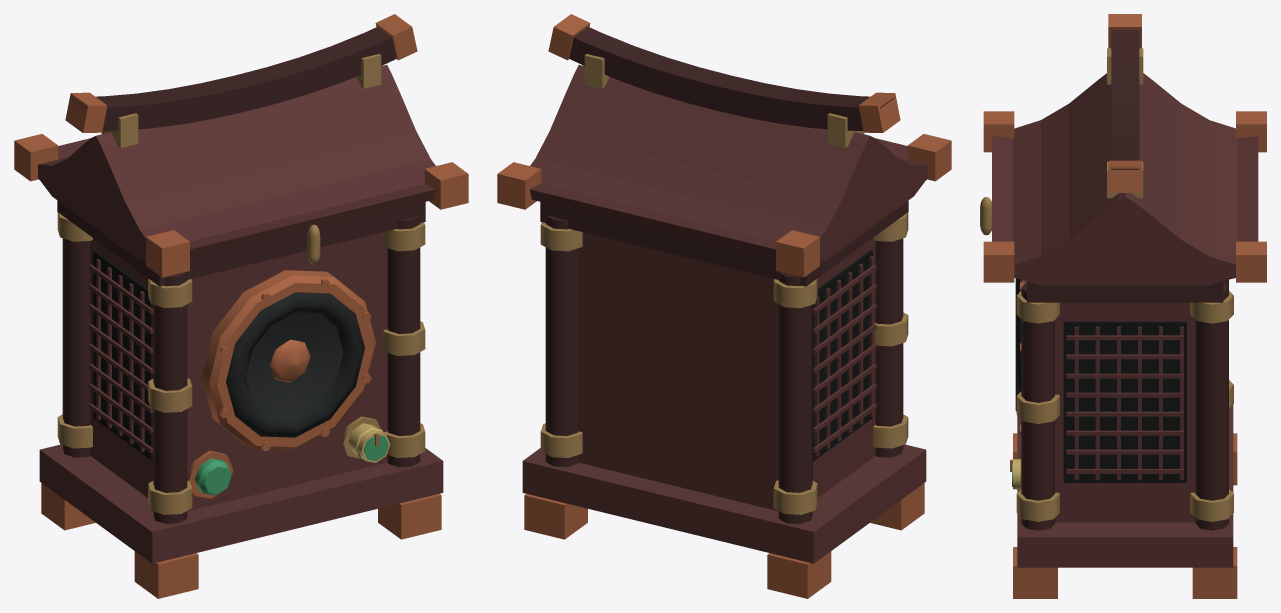
Rendered from EA-small.glb.
3 renders of one model, left to right at view 1: azimuth 30°, elevation 25°; view 2: azimuth 150°, elevation 25°; view 3: azimuth 270°, elevation 25°, orthographic. The views are drawn at different scales.
Visible parts, largest first — view 1: Curved roof, Cabinet, Base, Ridge beam, Driver — bezel ring, Driver — rubber surround, Side lattice left, Driver — cone, Column front left, Column front right, Lintel beam, Column back left (+23 smaller); view 2: Cabinet, Curved roof, Base, Ridge beam, Side lattice left, Column back left, Column back right, Lintel beam, Column front left, Side lattice backing left, Copper-shod foot 3, Copper-shod foot 4 (+14 smaller); view 3: Curved roof, Side lattice backing right, Cabinet, Base, Side lattice right, Column back right, Column front right, Ridge beam, Lintel beam, Copper-shod foot 4, Copper-shod foot 2, Eave copper cap front right (+12 smaller).
Boxes of the visible parts, left/top/right/bottom form: Curved roof: left=38, top=65, right=436, bottom=261; Cabinet: left=90, top=232, right=387, bottom=511; Base: left=39, top=444, right=443, bottom=563; Ridge beam: left=71, top=27, right=396, bottom=130; Driver — bezel ring: left=202, top=270, right=376, bottom=450; Driver — rubber surround: left=226, top=292, right=364, bottom=437; Side lattice left: left=89, top=259, right=153, bottom=459; Driver — cone: left=246, top=313, right=343, bottom=415; Column front left: left=153, top=272, right=187, bottom=523; Column front right: left=387, top=215, right=420, bottom=467; Lintel beam: left=57, top=200, right=425, bottom=286; Column back left: left=62, top=238, right=90, bottom=457; Cabinet: left=578, top=232, right=875, bottom=511; Curved roof: left=529, top=65, right=927, bottom=261; Base: left=522, top=444, right=926, bottom=563; Ridge beam: left=569, top=27, right=894, bottom=130; Side lattice left: left=812, top=256, right=876, bottom=456; Column back left: left=778, top=272, right=812, bottom=523; Column back right: left=545, top=215, right=578, bottom=467; Lintel beam: left=540, top=200, right=908, bottom=286; Column front left: left=875, top=238, right=903, bottom=457; Side lattice backing left: left=812, top=250, right=872, bottom=461; Copper-shod foot 3: left=767, top=551, right=831, bottom=598; Copper-shod foot 4: left=524, top=494, right=587, bottom=539; Curved roof: left=992, top=73, right=1258, bottom=285; Side lattice backing right: left=1063, top=321, right=1186, bottom=482; Cabinet: left=1055, top=302, right=1195, bottom=522; Base: left=1017, top=405, right=1233, bottom=567; Side lattice right: left=1066, top=326, right=1183, bottom=480; Column back right: left=1195, top=282, right=1228, bottom=530; Column front right: left=1021, top=282, right=1054, bottom=530; Ridge beam: left=1111, top=29, right=1139, bottom=169; Lintel beam: left=1027, top=281, right=1223, bottom=302; Copper-shod foot 4: left=1192, top=547, right=1237, bottom=598; Copper-shod foot 2: left=1013, top=547, right=1057, bottom=598; Eave copper cap front right: left=983, top=241, right=1014, bottom=282.
Bounding box in the file's own units: 0.2643 × 0.3484 × 0.2045.
